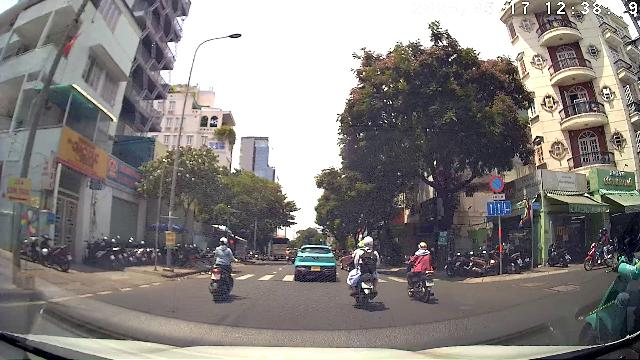131a-cam-do-xe: (490, 176, 504, 192)
